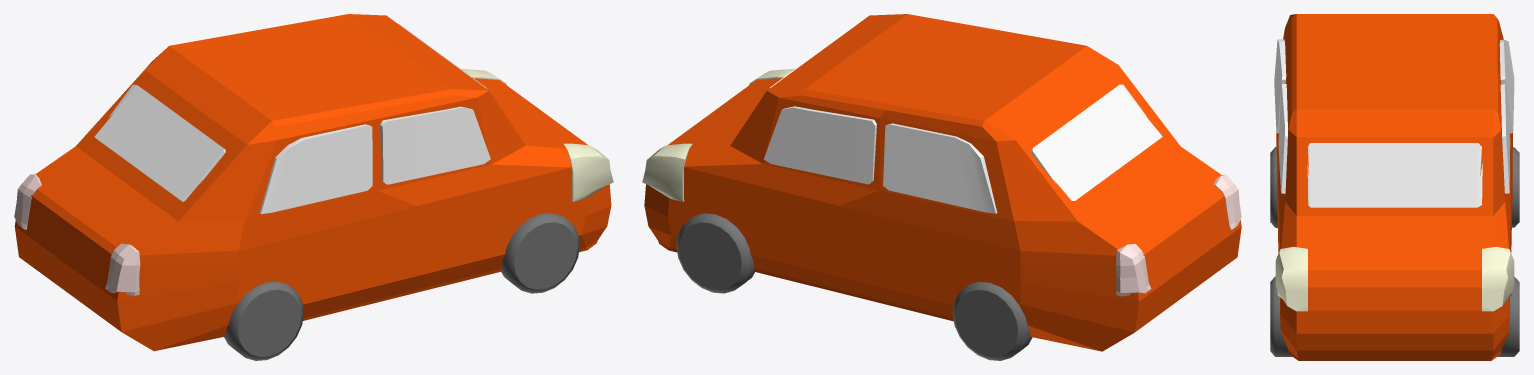
The model's file is CarroRojo.fbx.
3 views of the same model, side by side, from view 1: azimuth 30°, elevation 25°; view 2: azimuth 150°, elevation 25°; view 3: azimuth 270°, elevation 25° (orthographic). The views are drawn at different scales.
Visible parts, largest first — view 1: pCube1, pCube10, pCube7, pCube8, pCylinder1, pCylinder2, pCube11, pCube9; view 2: pCube1, pCube10, pCube4, pCube3, pCylinder3, pCylinder4, pCube11, pCube9; view 3: pCube1, pCube6, pCube9, pCube4, pCylinder1, pCylinder3, pCube8, pCube3, pCube7, pCylinder4, pCylinder2.
Boxes of the visible parts, x1,y1,x2,y2 form: pCube1: [14, 14, 611, 351]; pCube10: [94, 84, 225, 201]; pCube7: [259, 124, 372, 213]; pCube8: [380, 106, 490, 184]; pCylinder1: [501, 213, 579, 293]; pCylinder2: [224, 281, 303, 360]; pCube11: [14, 173, 140, 295]; pCube9: [461, 69, 613, 201]; pCube1: [644, 14, 1241, 351]; pCube10: [1030, 84, 1162, 201]; pCube4: [883, 123, 997, 213]; pCube3: [764, 106, 876, 184]; pCylinder3: [676, 213, 754, 293]; pCylinder4: [952, 282, 1032, 360]; pCube11: [1116, 174, 1241, 296]; pCube9: [642, 68, 794, 201]; pCube1: [1276, 14, 1512, 360]; pCube6: [1307, 143, 1482, 207]; pCube9: [1275, 246, 1514, 311]; pCube4: [1499, 39, 1514, 133]; pCylinder1: [1270, 276, 1292, 356]; pCylinder3: [1497, 277, 1519, 356]; pCube8: [1278, 84, 1287, 193]; pCube3: [1500, 84, 1510, 193]; pCube7: [1274, 39, 1286, 133]; pCylinder4: [1512, 147, 1519, 227]; pCylinder2: [1270, 147, 1277, 227].
Bounding box in the file's own units: 24.41 × 10.7 × 11.09.
